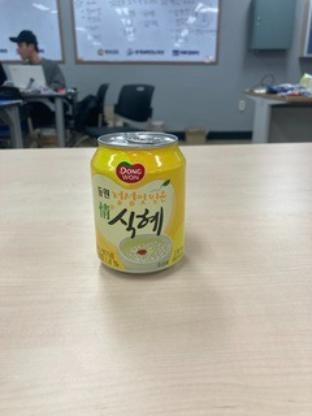Can: (87, 127, 191, 279)
